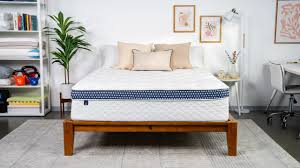bed-matress: (68, 66, 231, 121)
